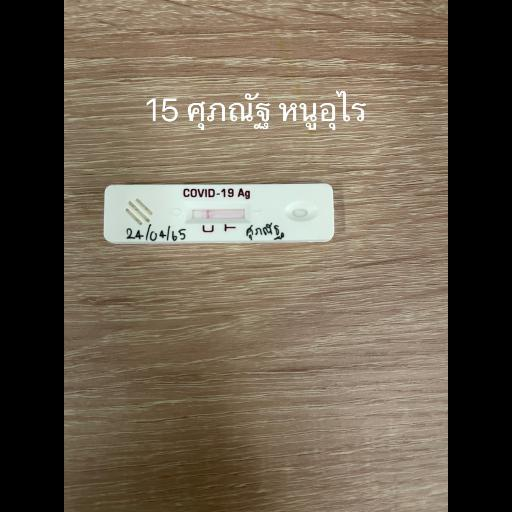Neg: (102, 184, 334, 240)
